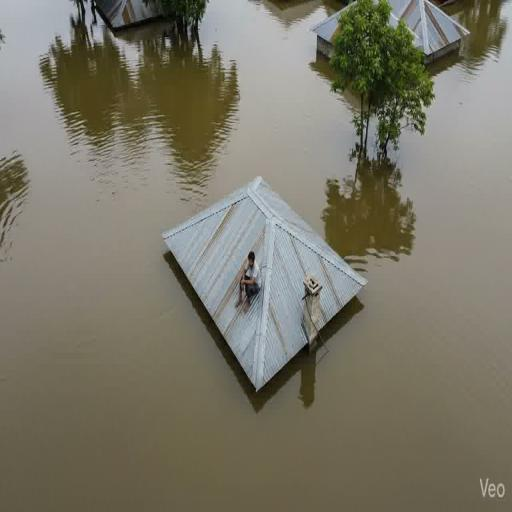human: (234, 240, 262, 320)
